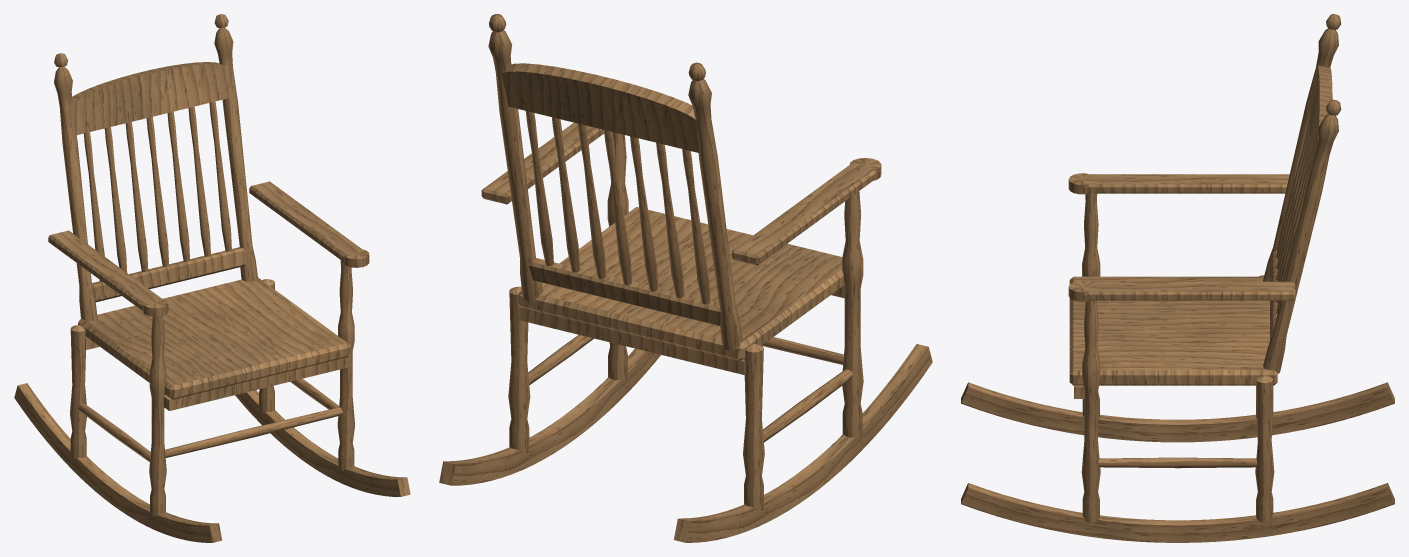
File: bed_rocking_chair.obj
3 views of the same model, side by side, from view 1: azimuth 30°, elevation 25°; view 2: azimuth 150°, elevation 25°; view 3: azimuth 270°, elevation 25° (orthographic). The views are drawn at different scales.
Visible parts, largest first — view 1: bed_rocking_chair; view 2: bed_rocking_chair; view 3: bed_rocking_chair.
Boxes of the visible parts, bbox=[...] form: bed_rocking_chair: bbox=[14, 14, 410, 542]; bed_rocking_chair: bbox=[439, 14, 932, 542]; bed_rocking_chair: bbox=[961, 14, 1394, 542].
Bounding box in the file's own units: 0.65 × 1.1 × 1.
1 material, 1 textured.
